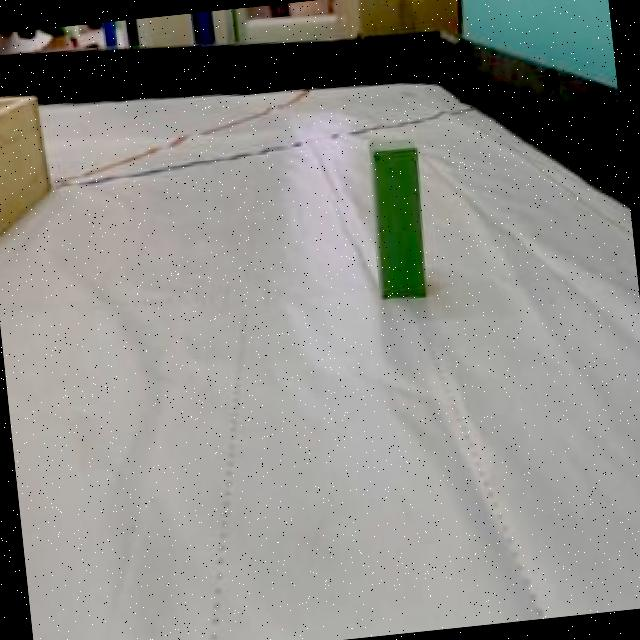greenbox: (364, 132, 436, 303)
